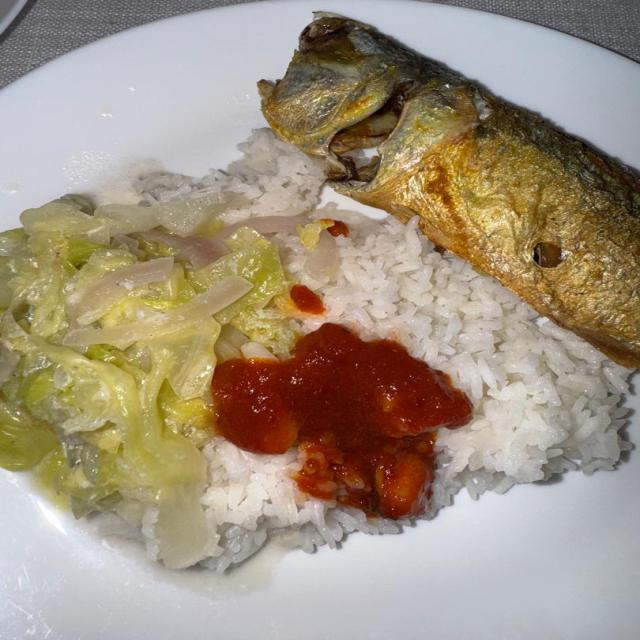Fish: (260, 15, 639, 373)
Plate: (0, 376, 639, 639)
Rice: (37, 131, 631, 572)
Vegetables: (1, 189, 295, 571)
